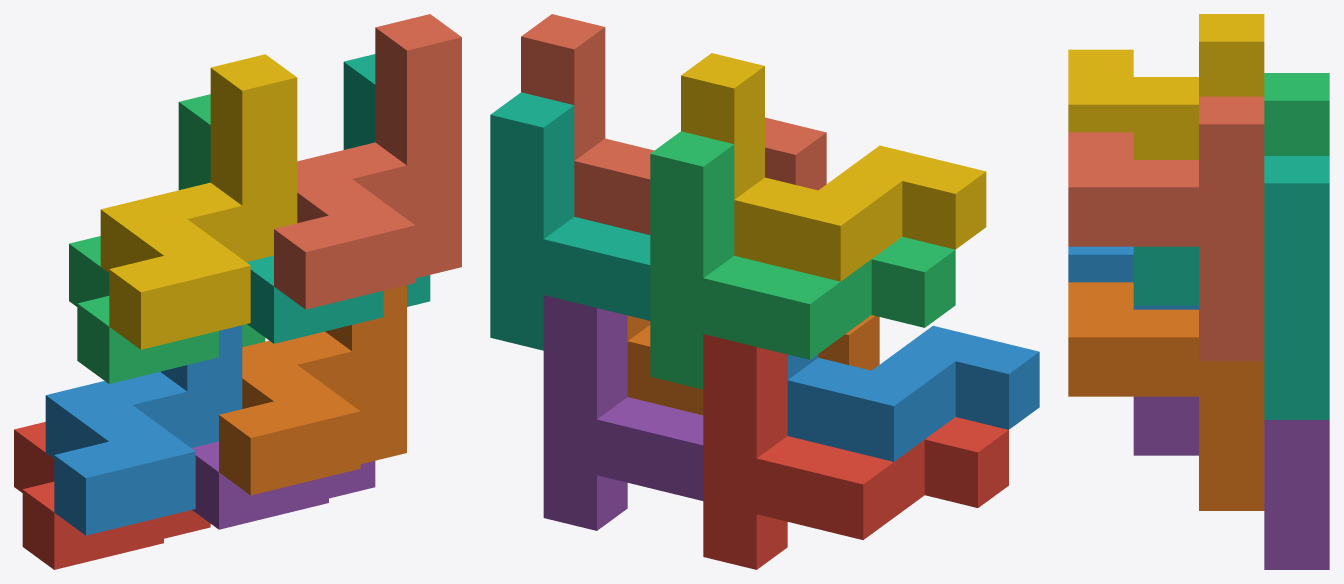
File: tiling.obj
The picture shows the model from 3 angles, left to right: view 1: azimuth 30°, elevation 25°; view 2: azimuth 150°, elevation 25°; view 3: azimuth 270°, elevation 25°; orthographic projection. The views are drawn at different scales.
Parts seen in each view (by area): view 1: copy_1_domain_8, copy_1_domain_4, copy_1_domain_6, copy_1_domain_2, copy_1_domain_3, copy_1_domain_1, copy_1_domain_7, copy_1_domain_5; view 2: copy_1_domain_3, copy_1_domain_1, copy_1_domain_4, copy_1_domain_7, copy_1_domain_5, copy_1_domain_2, copy_1_domain_8, copy_1_domain_6; view 3: copy_1_domain_8, copy_1_domain_6, copy_1_domain_7, copy_1_domain_4, copy_1_domain_5, copy_1_domain_3, copy_1_domain_2.
Boxes of the visible parts, left/top/right/bottom form: copy_1_domain_8: left=274, top=14, right=461, bottom=309; copy_1_domain_4: left=100, top=54, right=297, bottom=349; copy_1_domain_6: left=219, top=285, right=406, bottom=495; copy_1_domain_2: left=45, top=325, right=242, bottom=535; copy_1_domain_3: left=69, top=94, right=265, bottom=383; copy_1_domain_1: left=14, top=422, right=210, bottom=569; copy_1_domain_7: left=246, top=54, right=430, bottom=343; copy_1_domain_5: left=191, top=441, right=375, bottom=529; copy_1_domain_3: left=650, top=131, right=955, bottom=389; copy_1_domain_1: left=703, top=334, right=1008, bottom=569; copy_1_domain_4: left=681, top=53, right=986, bottom=281; copy_1_domain_7: left=490, top=92, right=650, bottom=350; copy_1_domain_5: left=543, top=295, right=703, bottom=530; copy_1_domain_2: left=787, top=325, right=1039, bottom=461; copy_1_domain_8: left=521, top=14, right=826, bottom=234; copy_1_domain_6: left=627, top=315, right=879, bottom=415; copy_1_domain_8: left=1068, top=96, right=1264, bottom=360; copy_1_domain_6: left=1068, top=282, right=1264, bottom=510; copy_1_domain_7: left=1133, top=156, right=1329, bottom=419; copy_1_domain_4: left=1068, top=14, right=1264, bottom=159; copy_1_domain_5: left=1133, top=396, right=1329, bottom=569; copy_1_domain_3: left=1264, top=73, right=1329, bottom=155; copy_1_domain_2: left=1068, top=246, right=1198, bottom=309.
Size of the model in its own units: 8 by 8 by 4.
